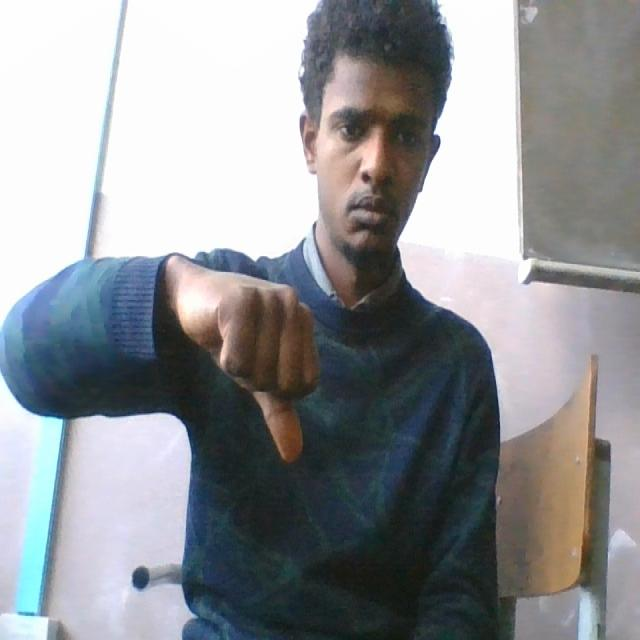injera: (173, 255, 327, 470)
